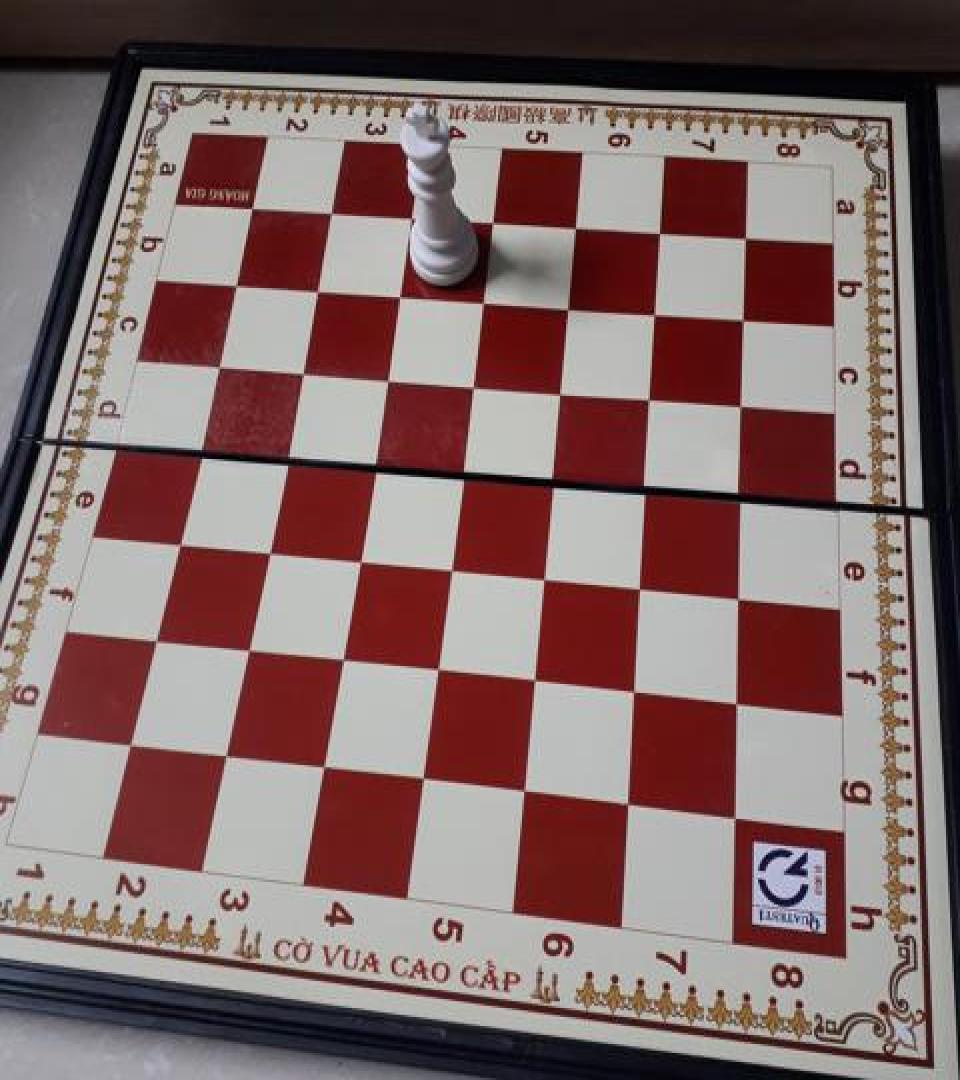xcorner: (726, 217, 762, 258), (475, 201, 511, 242), (315, 191, 351, 232), (637, 291, 673, 332), (382, 272, 418, 313), (455, 361, 491, 402), (369, 354, 405, 395), (267, 433, 303, 474), (181, 425, 217, 466), (340, 534, 376, 575), (249, 525, 285, 566), (618, 668, 654, 709), (138, 615, 174, 656), (718, 794, 754, 835), (406, 757, 442, 798), (209, 732, 245, 773), (113, 721, 149, 762), (641, 213, 677, 253), (557, 207, 593, 247), (394, 197, 430, 237), (236, 187, 272, 227), (725, 297, 761, 337), (551, 285, 587, 325), (466, 279, 502, 319), (300, 267, 336, 307), (219, 261, 255, 301), (724, 383, 760, 423), (633, 375, 669, 415), (543, 368, 579, 408), (284, 348, 320, 388), (201, 341, 237, 381), (722, 474, 758, 514), (628, 466, 664, 506), (535, 457, 571, 497), (444, 449, 480, 489), (355, 441, 391, 481), (721, 573, 757, 613), (623, 563, 659, 603), (527, 554, 563, 594), (433, 545, 469, 585), (160, 518, 196, 558), (720, 680, 756, 720), (518, 657, 554, 697), (420, 646, 456, 686), (324, 636, 360, 676), (230, 626, 266, 666), (612, 782, 648, 822), (508, 770, 544, 810), (306, 745, 342, 785)
